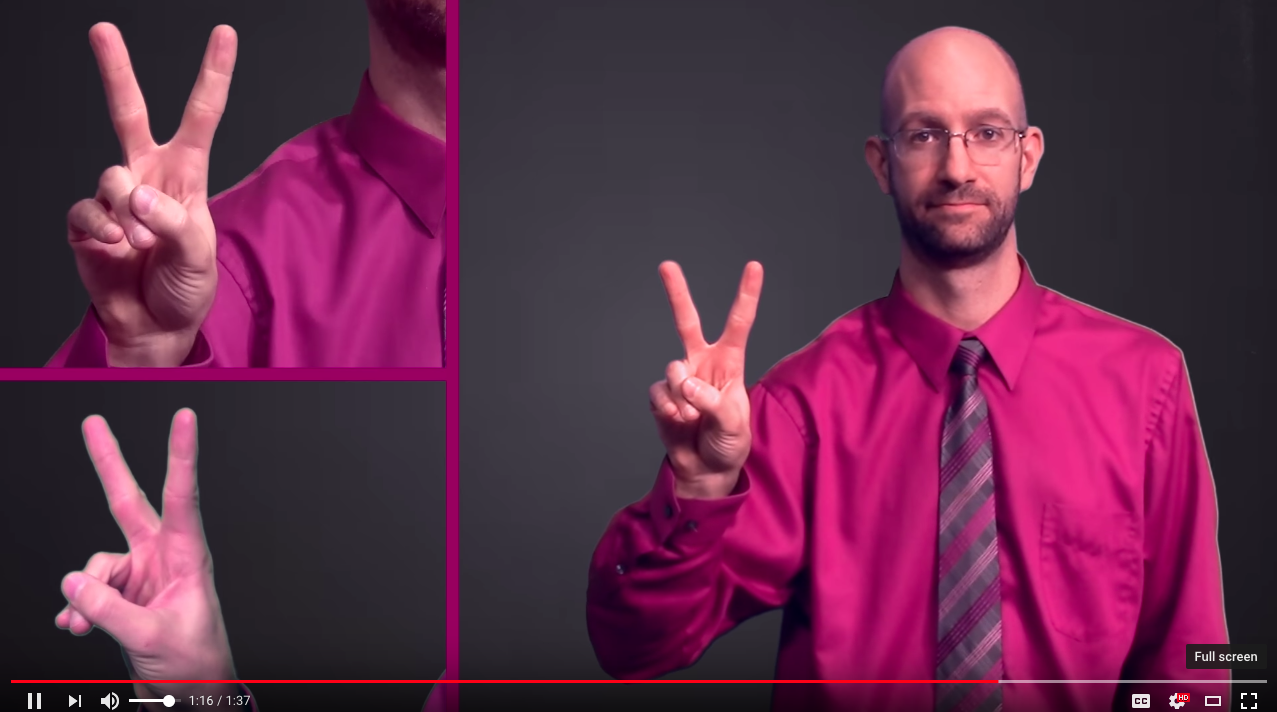v: (40, 11, 270, 362), (34, 392, 258, 681), (614, 246, 790, 499)
